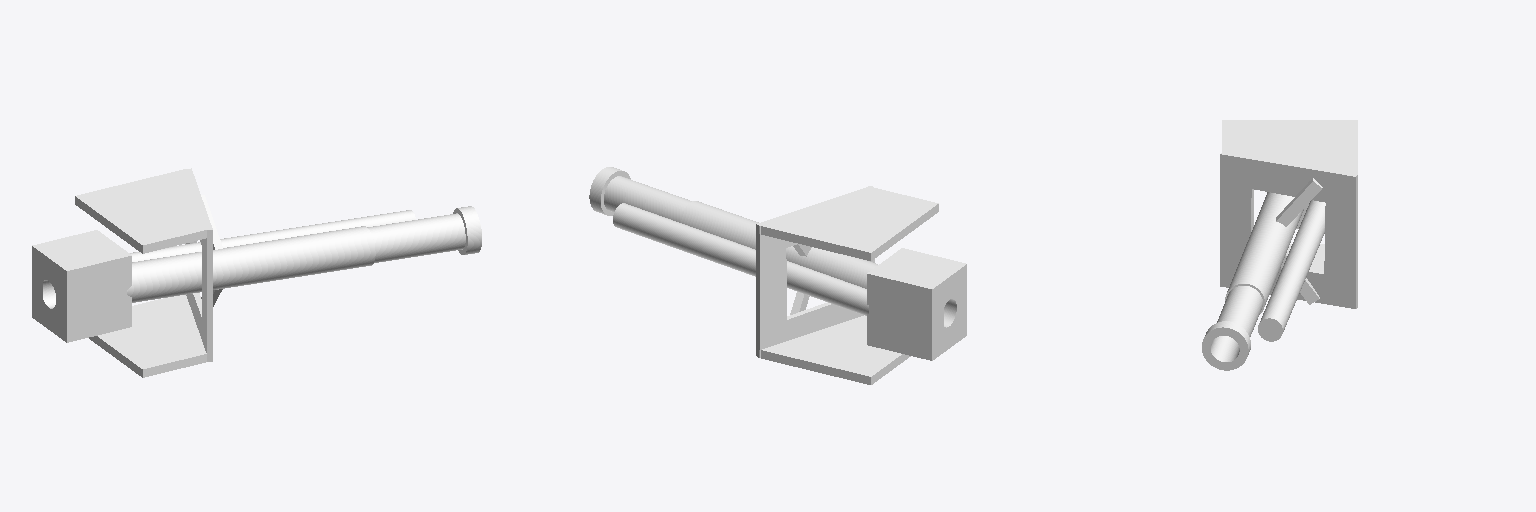
File: CannonTop.obj
3 renders of one model, left to right at view 1: azimuth 30°, elevation 25°; view 2: azimuth 150°, elevation 25°; view 3: azimuth 270°, elevation 25°, orthographic.
Parts seen in each view (by area): view 1: Object.8, Object.1, Object.5, Object.6, Object.7, Object.9, Object.2, Object.10; view 2: Object.1, Object.5, Object.9, Object.2, Object.6, Object.8, Object.7, Object.10; view 3: Object.2, Object.5, Object.8, Object.9, Object.7, Object.10, Object.3.
Part boxes in pixels (x1,y1,x2,y2): Object.8: (126,226,375,302); Object.1: (32,230,131,342); Object.5: (75,169,206,253); Object.6: (89,295,206,377); Object.7: (367,213,465,262); Object.9: (130,210,415,261); Object.2: (186,168,212,361); Object.10: (453,206,481,254); Object.1: (867,248,966,360); Object.5: (759,188,938,260); Object.9: (613,203,868,315); Object.2: (756,186,874,357); Object.6: (759,315,910,384); Object.8: (680,201,877,288); Object.7: (604,176,691,222); Object.10: (589,167,630,215); Object.2: (1220,152,1357,308); Object.5: (1222,120,1357,173); Object.8: (1225,192,1303,313); Object.9: (1258,200,1325,341); Object.7: (1213,286,1262,355); Object.10: (1202,321,1250,370); Object.3: (1276,178,1322,226).
Size of the model in its own units: 28.18 by 9.18 by 9.82.